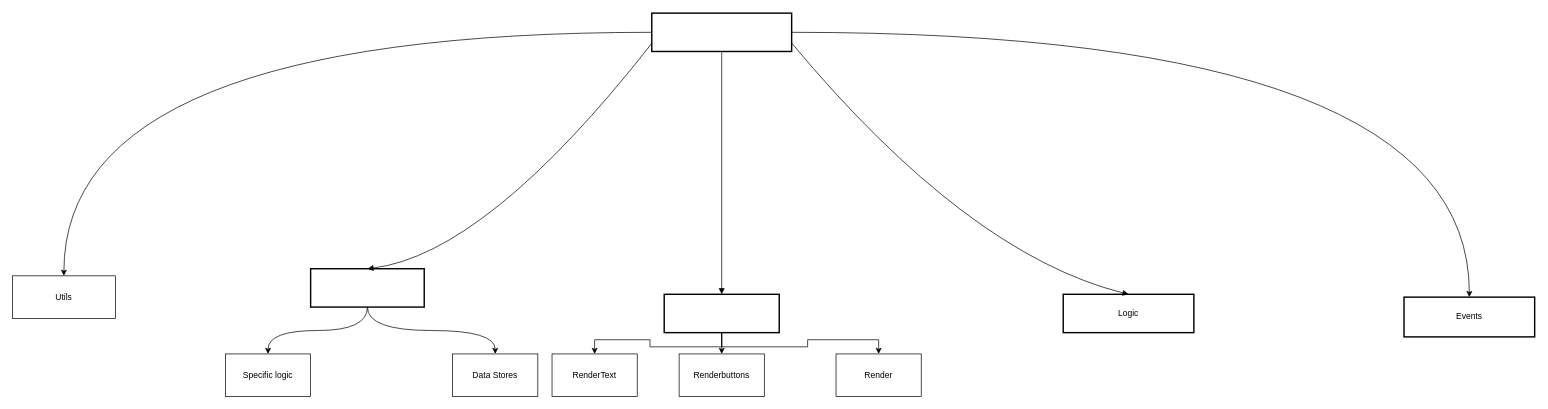
This 1548x409 diagram has some shape labels left out. Each missing label, with the centre of its shape:
"Freddy's Fish Shop" goes at pixel 721 32.
"Ordersystem" goes at pixel 367 287.
"RenderUi" goes at pixel 721 313.
